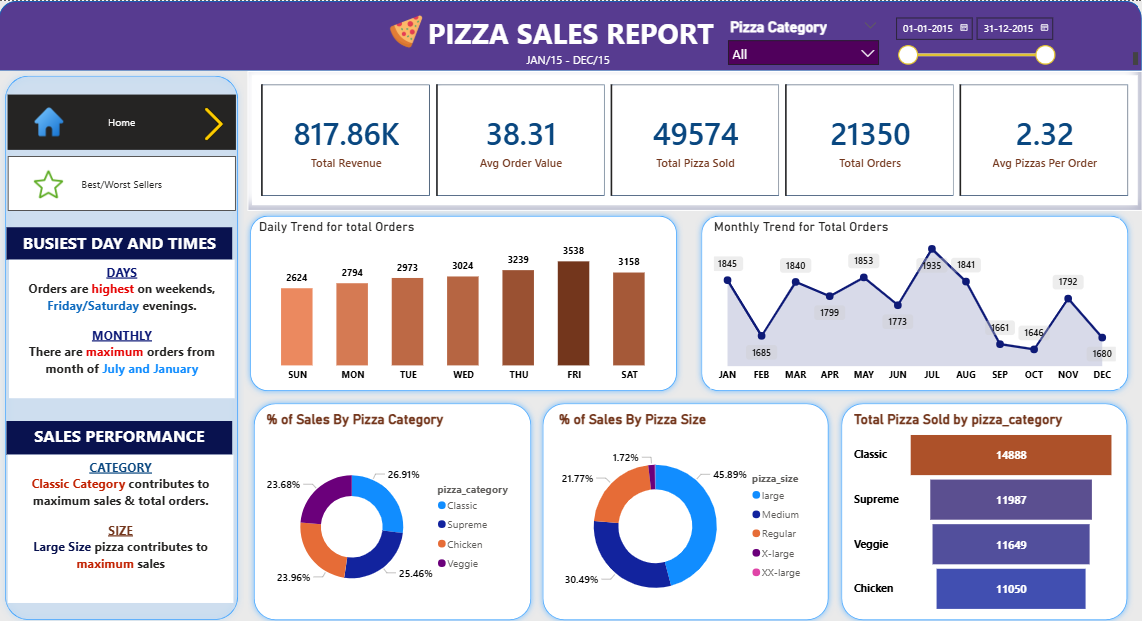

Layout of this report page (visuals, bound fields, positions):
{"tool":"powerbi","page":{"name":"Home","canvas":[1500,820],"ordinal":0},"visuals":[{"type":"cardVisual","fields":{"Data":["public pizza_sales.Total Revenue","public pizza_sales.Avg Order Value","public pizza_sales.Total Pizza Sold","public pizza_sales.Total Orders","public pizza_sales.Avg Pizzas Per Order"]},"box":[325.7,91.4,1174.3,182.9],"z":0},{"type":"shape","box":[0,0,1500,91.4],"z":1000},{"type":"textbox","box":[0,11.4,1500,80],"z":2000},{"type":"textbox","box":[0,62.9,1500,28.6],"z":3000},{"type":"image","box":[498.6,18.6,71.4,44.3],"z":4000},{"type":"shape","box":[321.4,274.3,575.7,245.7],"z":5000},{"type":"columnChart","title":"Daily Trend for total Orders","fields":{"Category":["public pizza_sales.Order Day"],"Y":["public pizza_sales.Total Orders"]},"box":[335.7,285.7,547.1,222.9],"z":6000},{"type":"shape","box":[912.9,274.3,575.7,245.7],"z":7000},{"type":"areaChart","title":"Monthly Trend for Total Orders","fields":{"Y":["public pizza_sales.Total Orders"],"Category":["public pizza_sales.Order Month"]},"box":[932.9,285.7,537.1,222.9],"z":8000},{"type":"shape","box":[1096.6,519.9,391,300.3],"z":9000},{"type":"shape","box":[325.8,519.9,379.7,300.3],"z":10000},{"type":"shape","box":[705.5,519.9,391,300.3],"z":11000},{"type":"donutChart","title":"% of Sales By Pizza Category","fields":{"Category":["public pizza_sales.pizza_category"],"Y":["public pizza_sales.Total Revenue"]},"box":[345.7,536.9,342.8,283.3],"z":12000},{"type":"donutChart","title":"% of Sales By Pizza Size","fields":{"Y":["public pizza_sales.Total Revenue"],"Category":["public pizza_sales.pizza_size"]},"box":[729.6,538.4,342.8,281.9],"z":13000},{"type":"funnel","fields":{"Category":["public pizza_sales.pizza_category"],"Y":["public pizza_sales.Total Pizza Sold"]},"box":[1116.4,538.4,352.8,270.6],"z":14000},{"type":"shape","box":[0,90.7,321.6,729.6],"z":15000},{"type":"textbox","box":[9.9,296.1,296.1,42.5],"z":16000},{"type":"textbox","box":[12.8,338.6,296.1,181.3],"z":17000},{"type":"textbox","box":[9.9,551.1,296.1,43.9],"z":18000},{"type":"textbox","box":[11.3,595,296.1,194.1],"z":19000},{"type":"slicer","fields":{"Values":["public pizza_sales.pizza_category"]},"box":[946.4,18.4,218.2,69.4],"z":20000},{"type":"slicer","fields":{"Values":["public pizza_sales.order_date"]},"box":[1164.6,11.3,229.5,86.4],"z":21000},{"type":"pageNavigator","box":[11.3,122.2,299.1,72.4],"z":22000},{"type":"pageNavigator","box":[11.3,202.6,299.1,72.4],"z":23000},{"type":"image","box":[257.8,138.8,48.2,43.9],"z":24000},{"type":"image","box":[12.8,138.8,104.8,38.3],"z":25000},{"type":"image","box":[38.3,221,53.8,38.3],"z":26000}]}

Visuals, with their boxes in screenshot pixels (x1, y1, x2, y2), scaled from the page's 1500x820 canvas onto the 1142x621 screenshot:
cardVisual - public pizza_sales.Total Revenue x public pizza_sales.Avg Order Value: 248,69,1141,208
shape: 0,0,1141,69
textbox: 0,9,1141,69
textbox: 0,48,1141,69
image: 380,14,434,48
shape: 245,208,683,394
"Daily Trend for total Orders" columnChart: 256,216,672,385
shape: 695,208,1133,394
"Monthly Trend for Total Orders" areaChart: 710,216,1119,385
shape: 835,394,1133,620
shape: 248,394,537,620
shape: 537,394,835,620
"% of Sales By Pizza Category" donutChart: 263,407,524,620
"% of Sales By Pizza Size" donutChart: 555,408,816,620
funnel - public pizza_sales.pizza_category x public pizza_sales.Total Pizza Sold: 850,408,1119,613
shape: 0,69,245,620
textbox: 8,224,233,256
textbox: 10,256,235,394
textbox: 8,417,233,451
textbox: 9,451,234,598
slicer - public pizza_sales.pizza_category: 721,14,887,66
slicer - public pizza_sales.order_date: 887,9,1061,74
pageNavigator: 9,93,236,147
pageNavigator: 9,153,236,208
image: 196,105,233,138
image: 10,105,90,134
image: 29,167,70,196
